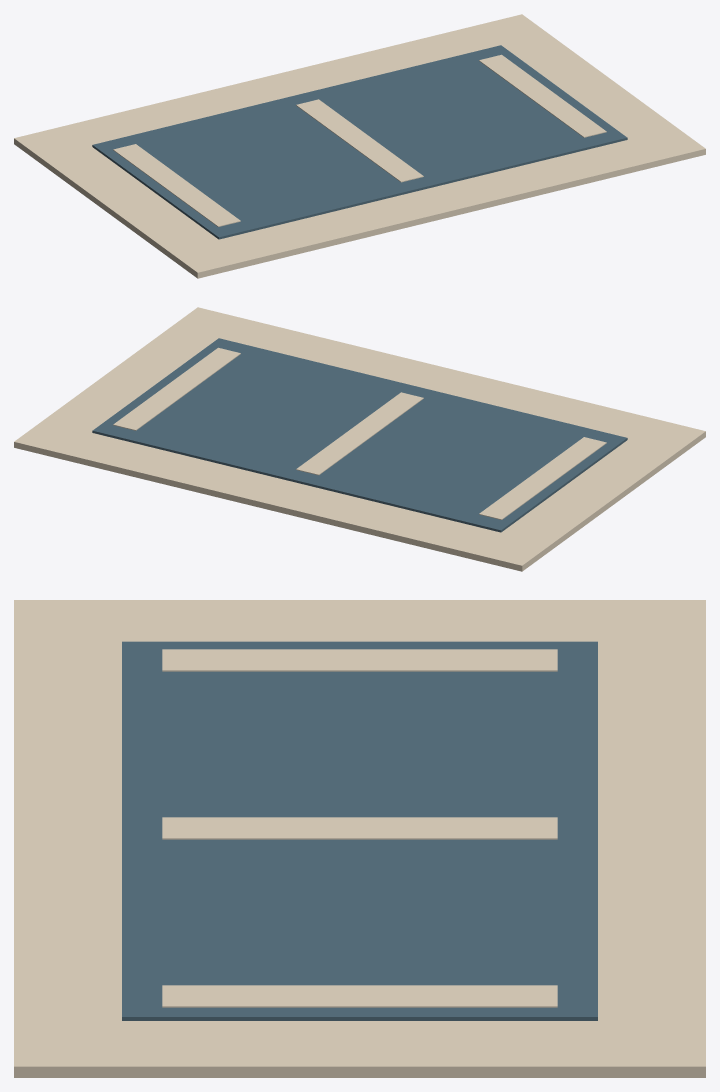
The model's file is bath_mat.glb.
3 renders of one model, top to bottom at view 1: azimuth 30°, elevation 25°; view 2: azimuth 150°, elevation 25°; view 3: azimuth 270°, elevation 25°, orthographic. The views are drawn at different scales.
Parts seen in each view (by area): view 1: Inner field, Woven body, Woven stripe.001, Woven stripe, Woven stripe.002; view 2: Inner field, Woven body, Woven stripe.001, Woven stripe, Woven stripe.002; view 3: Inner field, Woven body, Woven stripe, Woven stripe.001, Woven stripe.002.
Boxes of the visible parts, box(x1,y1,x2,y2) form: Inner field: box(92, 45, 627, 239); Woven body: box(14, 14, 705, 278); Woven stripe.001: box(296, 99, 423, 182); Woven stripe: box(113, 144, 240, 226); Woven stripe.002: box(479, 54, 606, 137); Inner field: box(92, 338, 627, 532); Woven body: box(14, 307, 705, 571); Woven stripe.001: box(296, 392, 423, 475); Woven stripe: box(479, 437, 606, 519); Woven stripe.002: box(113, 347, 240, 430); Inner field: box(122, 641, 597, 1020); Woven body: box(14, 600, 705, 1077); Woven stripe: box(162, 649, 557, 671); Woven stripe.001: box(162, 817, 557, 839); Woven stripe.002: box(162, 985, 557, 1007).
Size of the model in its own units: 0.715 by 0.012 by 0.448.
